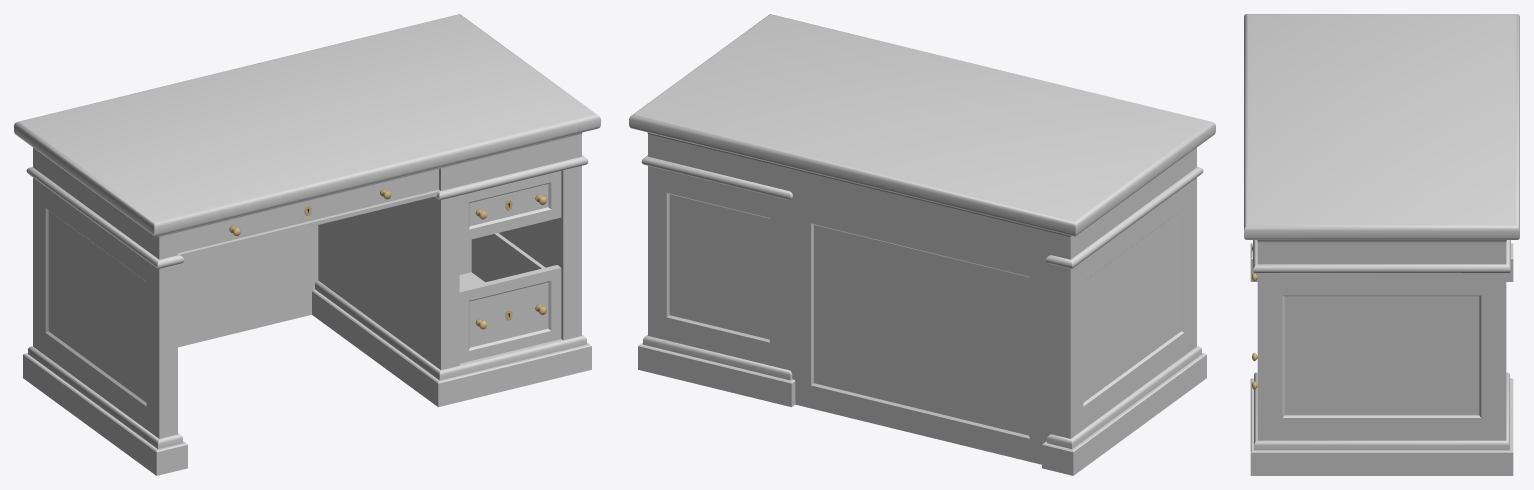
The model's file is desk_sekretariat.glb.
The picture shows the model from 3 angles, left to right: view 1: azimuth 30°, elevation 25°; view 2: azimuth 150°, elevation 25°; view 3: azimuth 270°, elevation 25°; orthographic projection.
Parts seen in each view (by area): view 1: carcass, drawer_l, drawer_c, drawer_s; view 2: carcass; view 3: carcass.
Part boxes in pixels (left/top/right/bottom): carcass: left=14, top=14, right=600, bottom=475; drawer_l: left=459, top=233, right=561, bottom=363; drawer_c: left=178, top=169, right=438, bottom=253; drawer_s: left=459, top=171, right=561, bottom=242; carcass: left=629, top=14, right=1215, bottom=475; carcass: left=1244, top=14, right=1519, bottom=475.
Bounding box in the file's own units: 1.42 × 0.78 × 0.774.
1 material, 1 textured.
